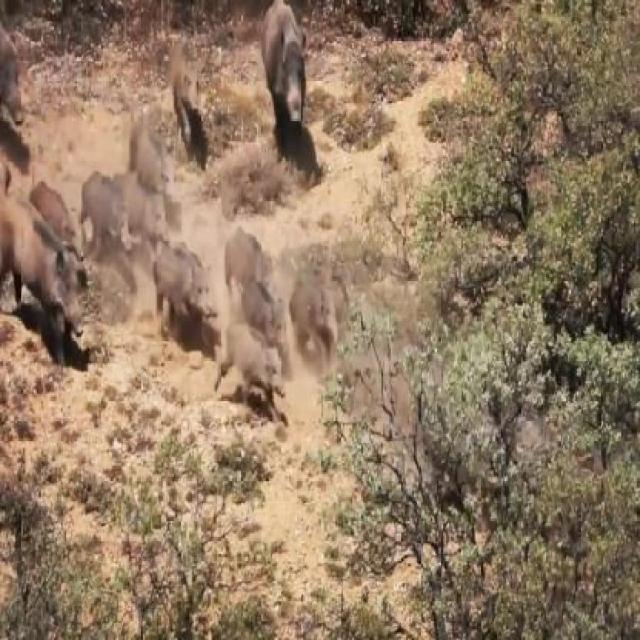pig: (0, 184, 103, 384), (149, 228, 220, 320), (81, 151, 130, 270), (266, 0, 304, 149), (160, 32, 194, 155), (237, 286, 291, 356), (225, 322, 276, 396), (3, 8, 31, 139), (122, 168, 163, 255), (295, 266, 330, 353), (132, 91, 166, 169), (234, 218, 268, 284)
